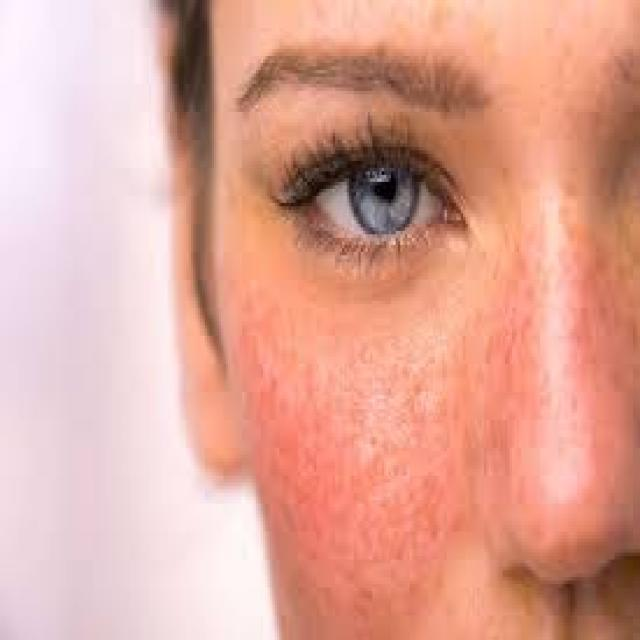Rosacea: (221, 291, 482, 640), (492, 220, 640, 498)
